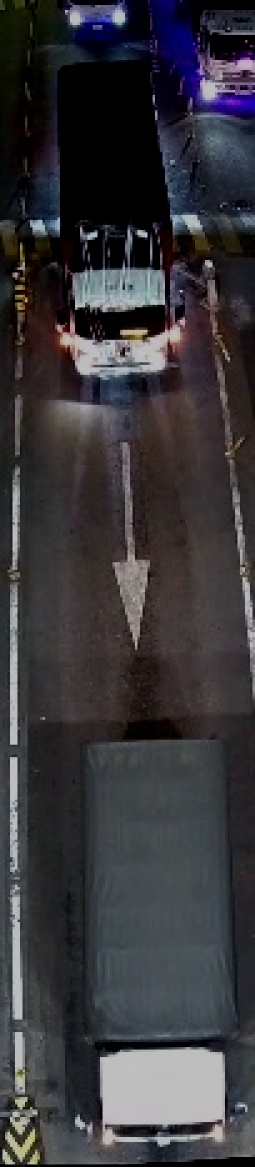truck: (80, 730, 238, 1148), (61, 59, 184, 381), (188, 4, 251, 103), (59, 1, 134, 40)
